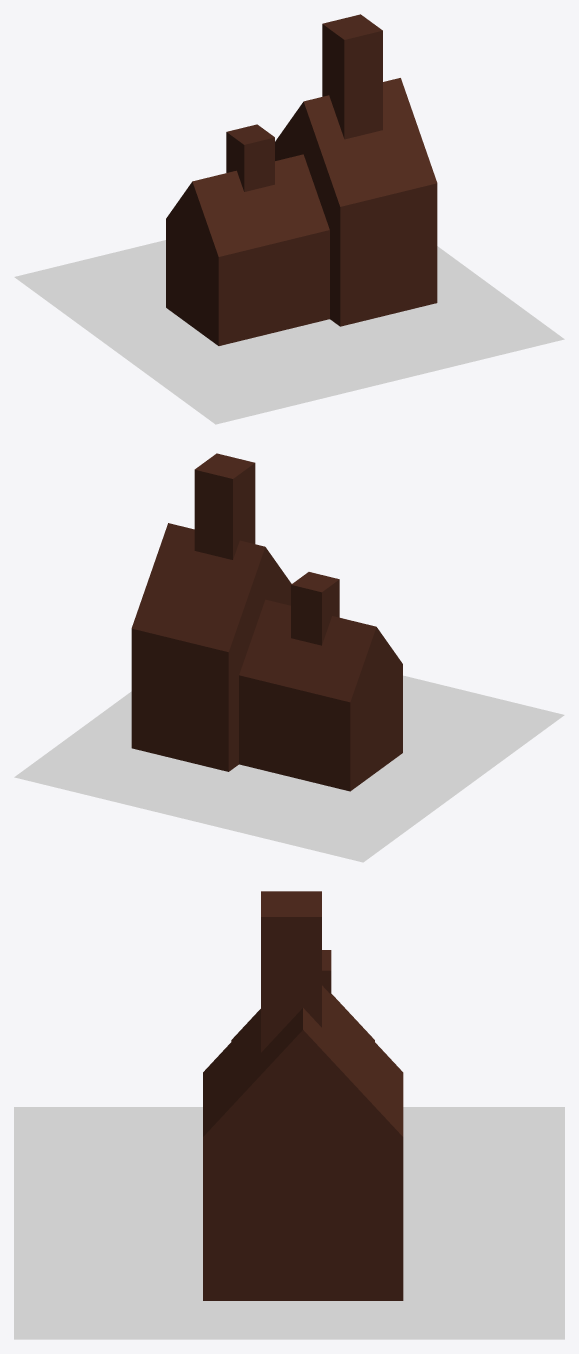
Rendered from Factory_Placeholder.fbx.
3 views of the same model, one above another, from view 1: azimuth 30°, elevation 25°; view 2: azimuth 150°, elevation 25°; view 3: azimuth 270°, elevation 25° (orthographic). The views are drawn at different scales.
Parts seen in each view (by area): view 1: Plane, Cube.008, Cube.009, Cube.011, Cube.010; view 2: Plane, Cube.009, Cube.008, Cube.011, Cube.010; view 3: Plane, Cube.009, Cube.011.
Boxes of the visible parts, x1=… form: Plane: x1=14, y1=240, x2=564, y2=424; Cube.008: x1=166, y1=154, x2=329, y2=345; Cube.009: x1=275, y1=78, x2=437, y2=326; Cube.011: x1=322, y1=14, x2=382, y2=139; Cube.010: x1=226, y1=124, x2=274, y2=191; Plane: x1=14, y1=675, x2=564, y2=862; Cube.009: x1=131, y1=523, x2=291, y2=771; Cube.008: x1=239, y1=599, x2=402, y2=791; Cube.011: x1=194, y1=453, x2=255, y2=559; Cube.010: x1=291, y1=572, x2=339, y2=645; Plane: x1=14, y1=1107, x2=564, y2=1339; Cube.009: x1=203, y1=985, x2=403, y2=1300; Cube.011: x1=261, y1=891, x2=321, y2=1052.
Bounding box in the file's own units: 82.96 × 63.1 × 82.96.
